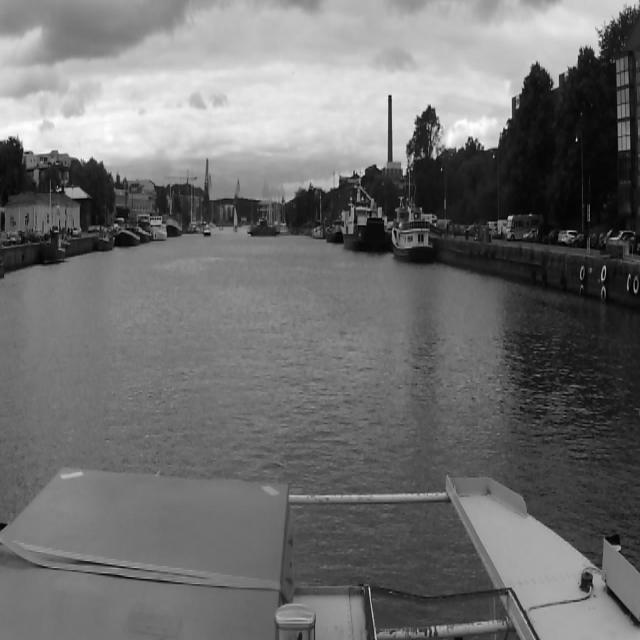ship: (392, 195, 438, 258), (342, 188, 388, 250), (240, 216, 284, 238), (42, 229, 64, 259), (313, 189, 323, 239), (150, 216, 170, 241), (248, 220, 278, 236), (167, 214, 182, 237), (95, 231, 113, 250), (325, 220, 339, 244), (116, 230, 136, 243), (233, 207, 237, 232), (203, 225, 211, 236)
